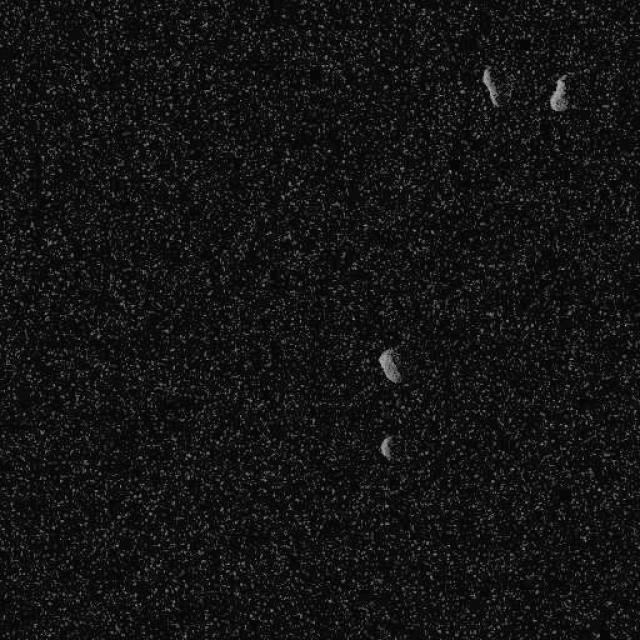D2: (378, 346, 402, 384), (480, 65, 501, 107), (548, 74, 570, 112), (378, 435, 394, 460)
